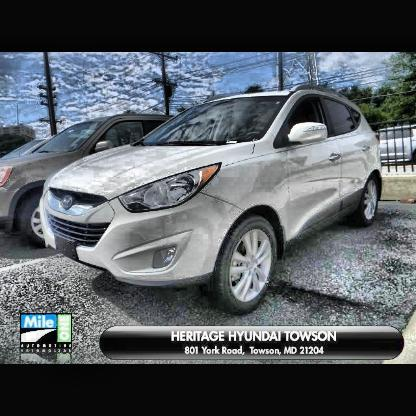Hyundai Tucson SUV 2012: (39, 88, 384, 303)
